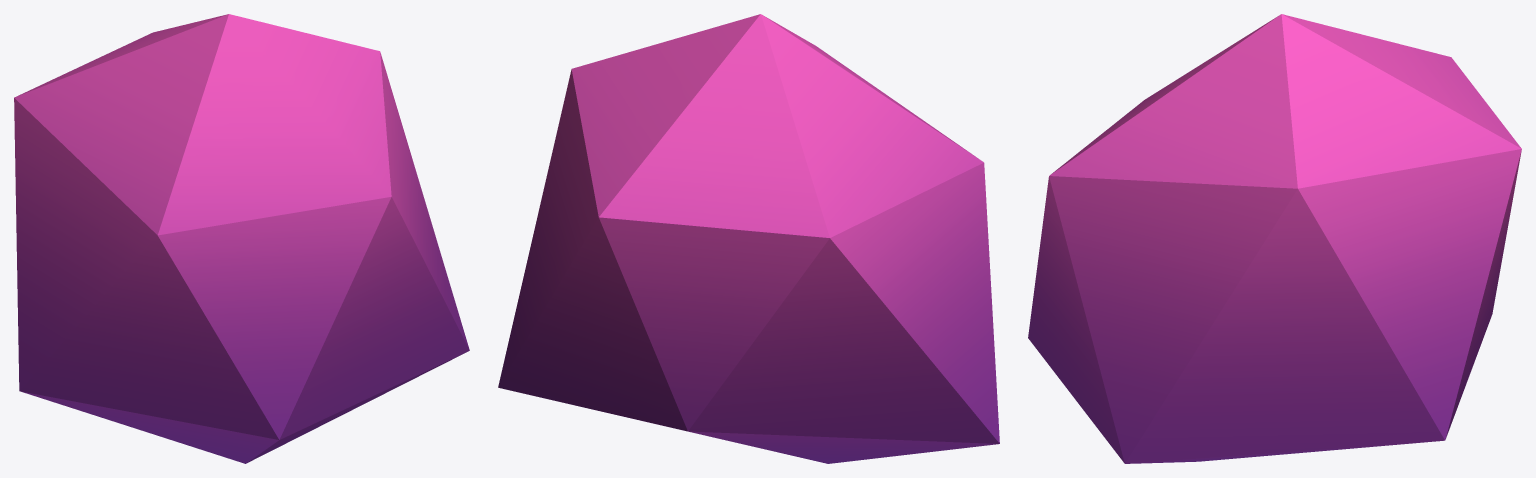
File: Crystall_2.fbx
3 views of the same model, side by side, from view 1: azimuth 30°, elevation 25°; view 2: azimuth 150°, elevation 25°; view 3: azimuth 270°, elevation 25° (orthographic). The views are drawn at different scales.
Parts seen in each view (by area): view 1: Crystall_2; view 2: Crystall_2; view 3: Crystall_2.
Boxes of the visible parts, left/top/right/bottom form: Crystall_2: left=14, top=14, right=469, bottom=463; Crystall_2: left=498, top=14, right=999, bottom=463; Crystall_2: left=1028, top=14, right=1521, bottom=463.
Size of the model in its own units: 131 by 138 by 134.
